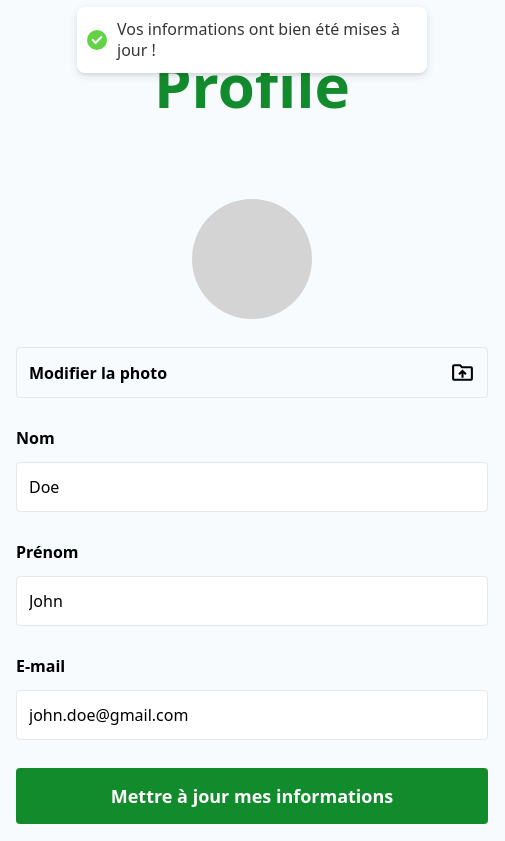
Test: UserProfile Screen › should shows an error message if there are any errors when the user submit the form
The image size is (505, 841).
Replace the text in the field with test id "lastname" with "Dupont" at (252, 487), box [16, 462, 488, 512]
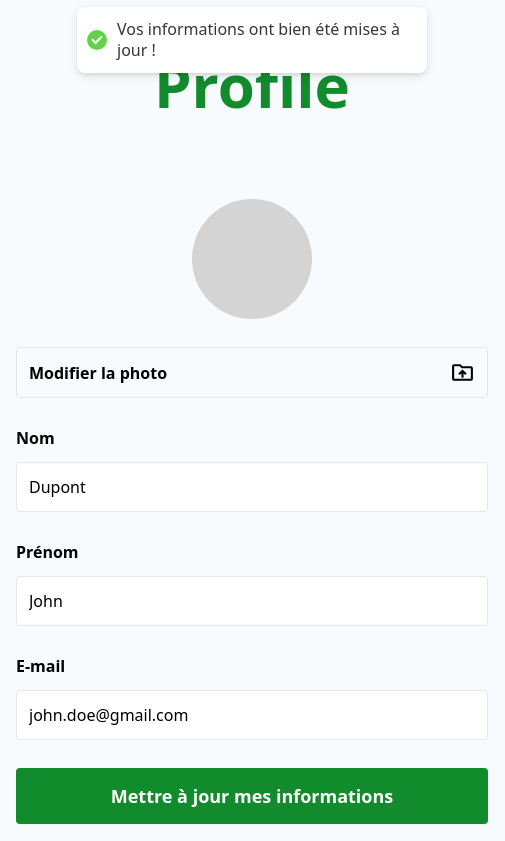
Replace the text in the field labelled "Prénom" with "Jean" at (252, 601), box [16, 576, 488, 626]
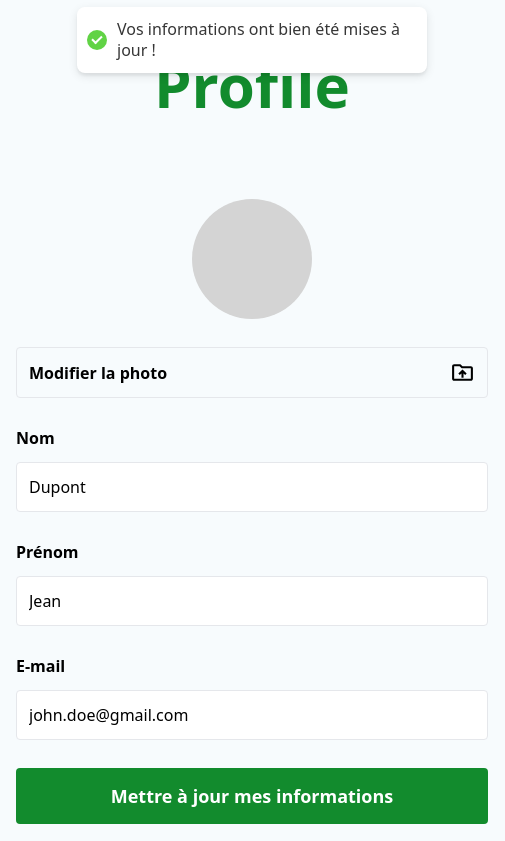
Replace the text in the field labelled "E-mail" with "jean.dupont@gmail.com" at (252, 715), box [16, 690, 488, 740]
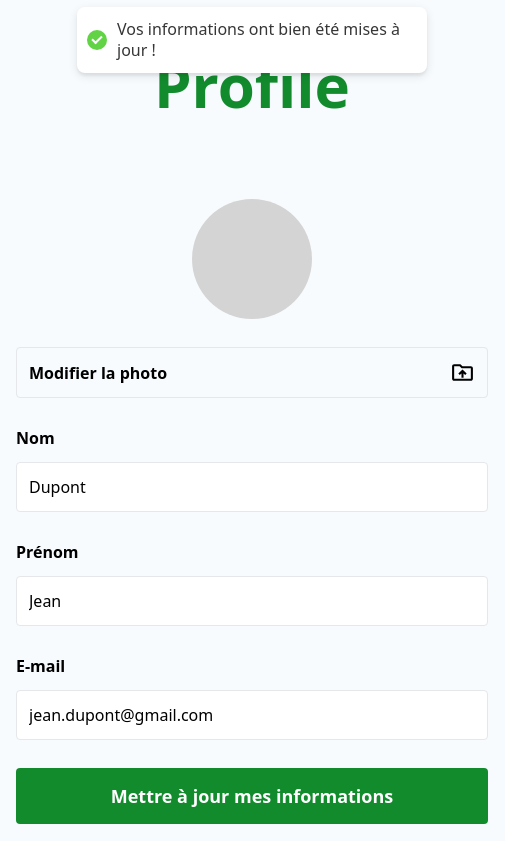
Click the button "Mettre à jour mes informations" at (252, 796), box [16, 768, 488, 824]
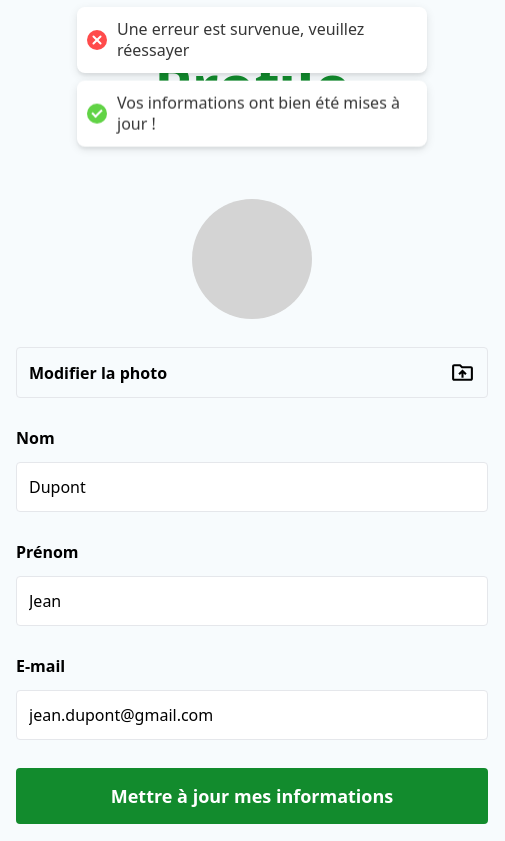
Expected: the text "Une erreur est survenue, veuillez réessayer" is shown, [117, 19, 407, 61]
